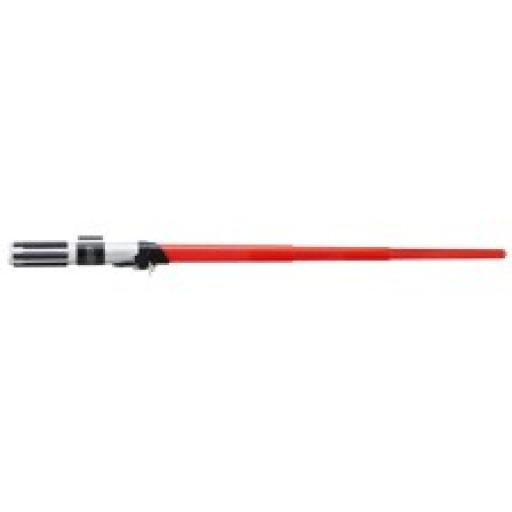lightsaber: (8, 236, 506, 266)
